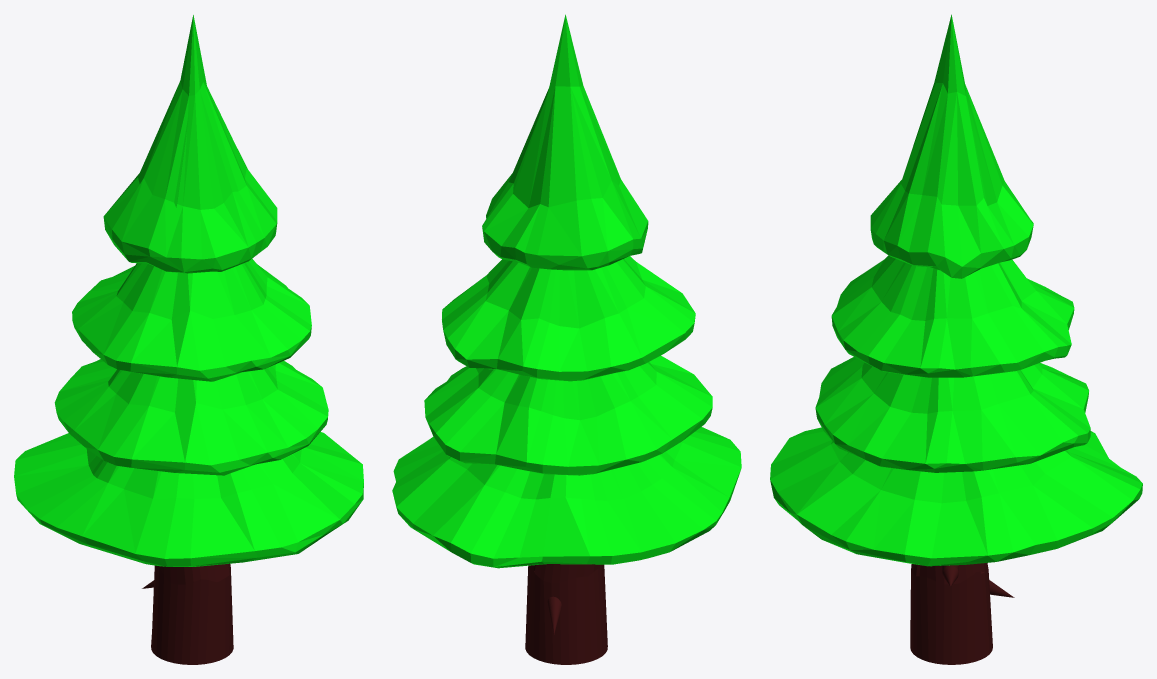
The model's file is Arbre3.fbx.
3 views of the same model, side by side, from view 1: azimuth 30°, elevation 25°; view 2: azimuth 150°, elevation 25°; view 3: azimuth 270°, elevation 25° (orthographic).
Visible parts, largest first — view 1: Feuilles_LOD0, Tronc_LOD0; view 2: Feuilles_LOD0, Tronc_LOD0; view 3: Feuilles_LOD0, Tronc_LOD0.
Boxes of the visible parts, x1,y1,x2,y2 form: Feuilles_LOD0: [14, 15, 363, 566]; Tronc_LOD0: [142, 563, 233, 664]; Feuilles_LOD0: [392, 14, 741, 568]; Tronc_LOD0: [525, 564, 607, 664]; Feuilles_LOD0: [770, 14, 1142, 566]; Tronc_LOD0: [910, 563, 1014, 664].
Size of what is drawn, in the model's own units: 84.11 by 169 by 90.04.
